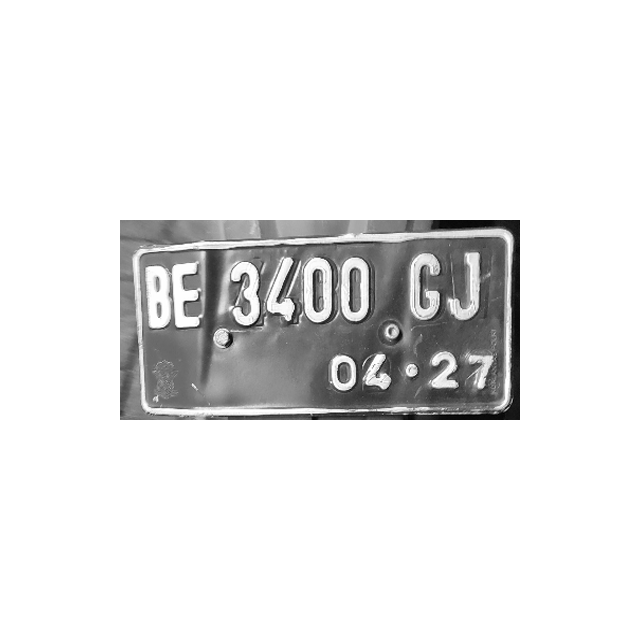contain: (446, 248, 484, 325), (334, 251, 371, 328), (408, 250, 445, 327), (264, 254, 301, 327), (303, 259, 339, 330), (229, 259, 262, 330), (171, 255, 201, 327), (143, 265, 175, 332)
